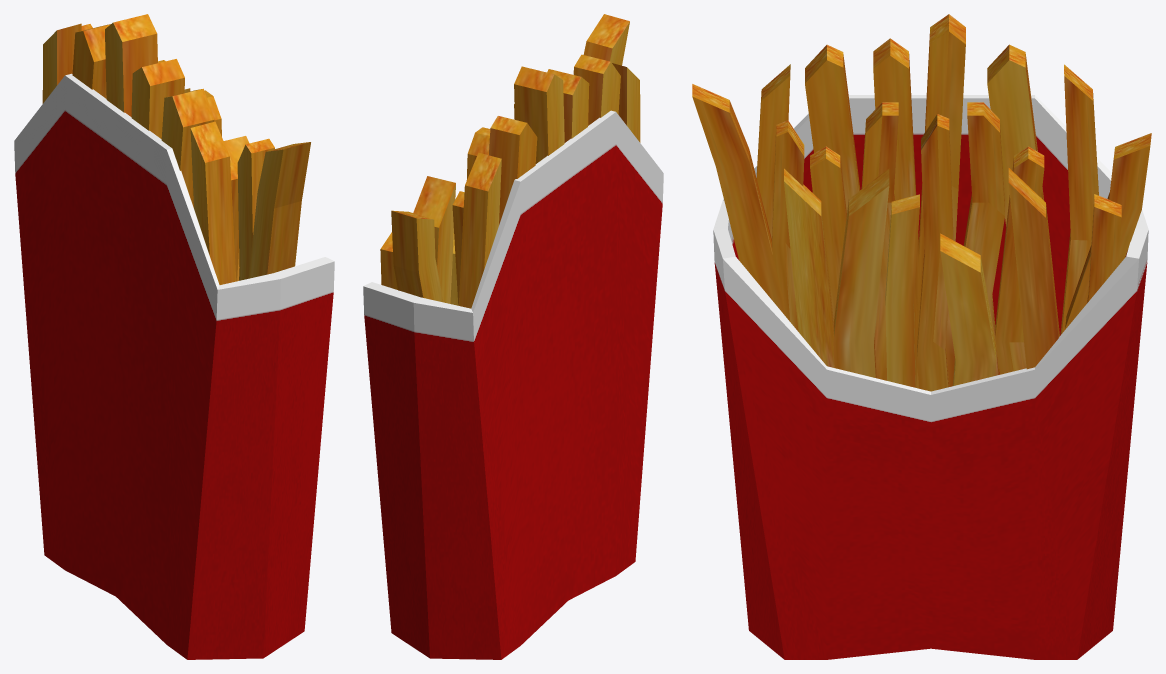
The model's file is Fries.obj.
3 renders of one model, left to right at view 1: azimuth 30°, elevation 25°; view 2: azimuth 150°, elevation 25°; view 3: azimuth 270°, elevation 25°, orthographic. The views are drawn at different scales.
Parts seen in each view (by area): view 1: Cube, Cube.004, Cube.003, Cube.012, Cube.007, Cube.009, Cube.005, Cube.014, Cube.018, Cube.002, Cube.006; view 2: Cube, Cube.018, Cube.017, Cube.012, Cube.020, Cube.014, Cube.007, Cube.004, Cube.009, Cube.003, Cube.019, Cube.011 (+1 smaller); view 3: Cube, Cube.006, Cube.004, Cube.016, Cube.020, Cube.001, Cube.015, Cube.013, Cube.018, Cube.012, Cube.010, Cube.007 (+9 smaller).
Boxes of the visible parts, left/top/right/bottom form: Cube: left=14, top=73, right=334, bottom=659; Cube.004: left=248, top=142, right=310, bottom=278; Cube.003: left=190, top=121, right=236, bottom=284; Cube.012: left=105, top=14, right=157, bottom=116; Cube.007: left=161, top=88, right=214, bottom=207; Cube.009: left=131, top=59, right=184, bottom=138; Cube.005: left=237, top=138, right=274, bottom=280; Cube.014: left=72, top=24, right=110, bottom=98; Cube.018: left=42, top=23, right=81, bottom=103; Cube.002: left=230, top=162, right=238, bottom=281; Cube.006: left=223, top=136, right=249, bottom=281; Cube: left=363, top=110, right=663, bottom=659; Cube.018: left=458, top=152, right=501, bottom=308; Cube.017: left=391, top=210, right=443, bottom=302; Cube.012: left=514, top=66, right=564, bottom=163; Cube.020: left=413, top=176, right=455, bottom=303; Cube.014: left=489, top=116, right=537, bottom=224; Cube.007: left=573, top=54, right=620, bottom=125; Cube.004: left=583, top=14, right=629, bottom=65; Cube.009: left=547, top=69, right=589, bottom=142; Cube.003: left=612, top=63, right=640, bottom=142; Cube.019: left=452, top=191, right=464, bottom=305; Cube.011: left=380, top=232, right=397, bottom=289; Cube: left=713, top=95, right=1148, bottom=659; Cube.006: left=833, top=168, right=889, bottom=378; Cube.004: left=692, top=84, right=785, bottom=316; Cube.016: left=917, top=114, right=953, bottom=391; Cube.020: left=1008, top=168, right=1059, bottom=369; Cube.001: left=784, top=168, right=834, bottom=367; Cube.015: left=940, top=233, right=996, bottom=385; Cube.013: left=963, top=102, right=1004, bottom=375; Cube.018: left=1060, top=64, right=1098, bottom=335; Cube.012: left=916, top=14, right=965, bottom=386; Cube.010: left=885, top=194, right=919, bottom=387; Cube.007: left=805, top=44, right=860, bottom=212.
Bounding box in the file's own units: 0.1552 × 0.7303 × 0.5152.
2 materials, 2 textured.
